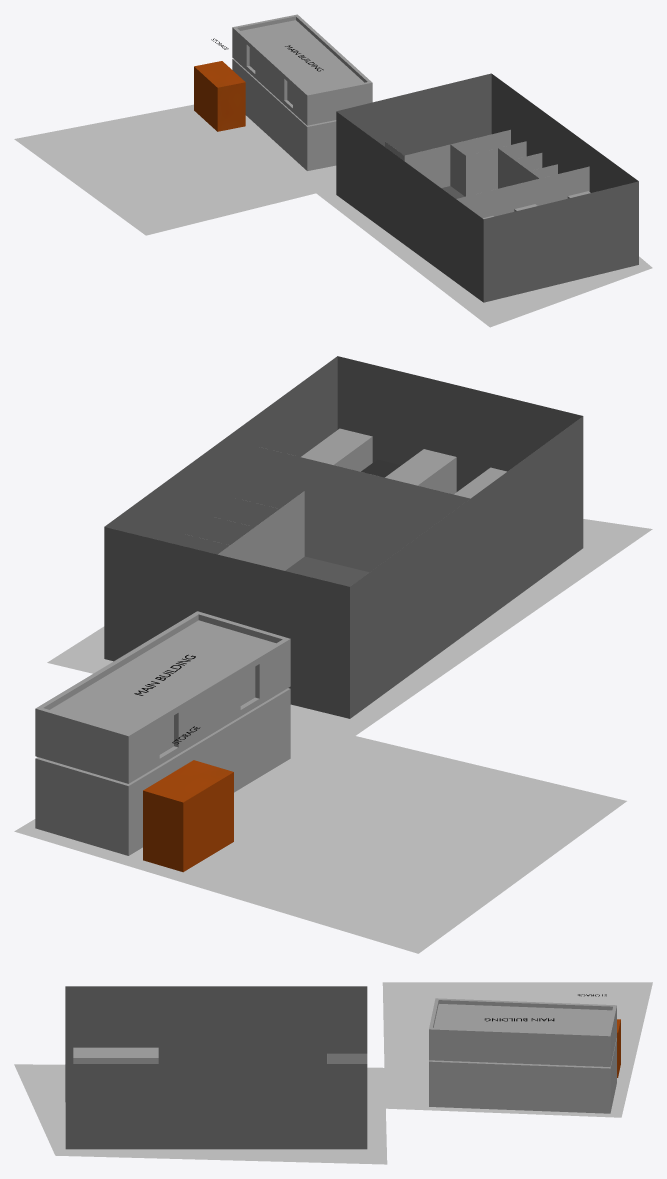
Rendered from storm-location-plan.glb.
The picture shows the model from 3 angles, top to bottom: view 1: azimuth 30°, elevation 25°; view 2: azimuth 150°, elevation 25°; view 3: azimuth 270°, elevation 25°; orthographic projection. The views are drawn at different scales.
Parts seen in each view (by area): view 1: Cube.001, Curve, Cube, Cube.002; view 2: Cube.001, Curve, Cube, Cube.002; view 3: Cube.001, Curve, Cube.
Part boxes in pixels (x1,y1,x2,y2): Cube.001: [336, 73, 638, 302]; Curve: [14, 104, 652, 327]; Cube: [232, 14, 372, 170]; Cube.002: [194, 61, 245, 131]; Cube.001: [104, 356, 583, 718]; Curve: [14, 519, 652, 953]; Cube: [35, 611, 290, 855]; Cube.002: [143, 760, 233, 872]; Cube.001: [65, 986, 367, 1149]; Curve: [14, 982, 652, 1164]; Cube: [429, 998, 616, 1113].
Bounding box in the file's own units: 64.91 × 14.5 × 96.24.
Materials: 2 (1 with a texture image).
